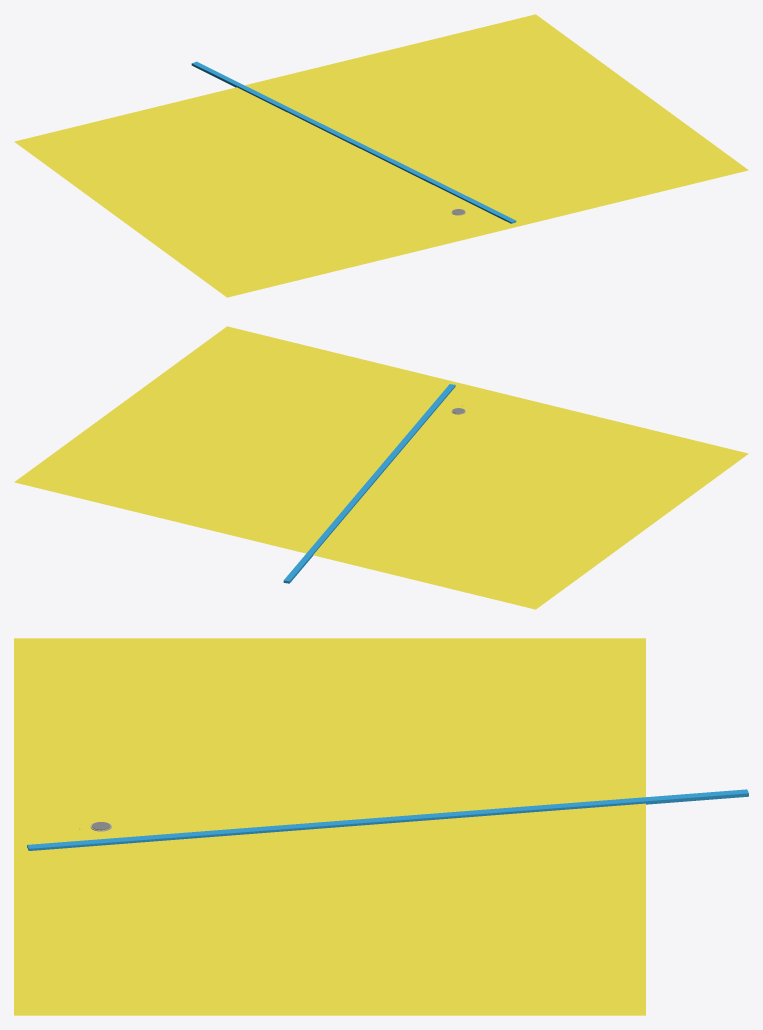
File: environment.glb
3 views of the same model, one above another, from view 1: azimuth 30°, elevation 25°; view 2: azimuth 150°, elevation 25°; view 3: azimuth 270°, elevation 25° (orthographic). The views are drawn at different scales.
Visible parts, largest first — view 1: floor_sand, Cube.002; view 2: floor_sand, Cube.002; view 3: floor_sand, Cube.002.
Boxes of the visible parts, <box> form: floor_sand: <box>14,14,748,297</box>; Cube.002: <box>191,61,516,223</box>; floor_sand: <box>14,326,748,609</box>; Cube.002: <box>283,384,455,583</box>; floor_sand: <box>14,638,645,1015</box>; Cube.002: <box>27,789,748,850</box>.
Size of the model in its own units: 133 by 0.5548 by 109.
